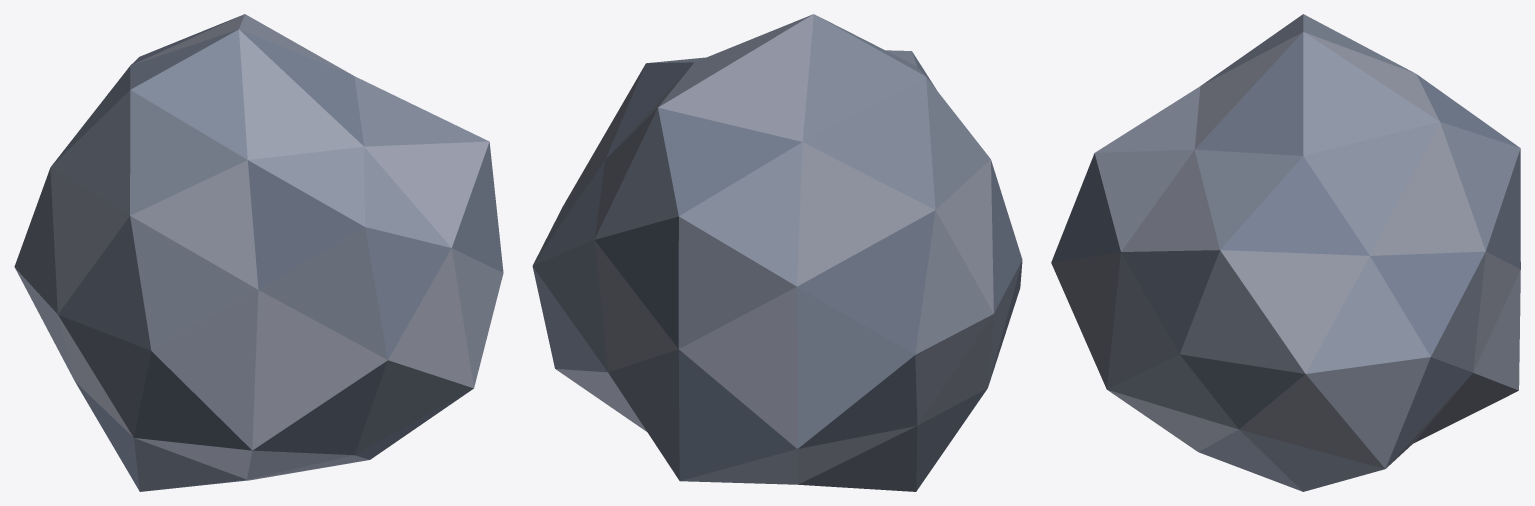
Rendered from asteroid_3.gltf.
3 renders of one model, left to right at view 1: azimuth 30°, elevation 25°; view 2: azimuth 150°, elevation 25°; view 3: azimuth 270°, elevation 25°, orthographic. The views are drawn at different scales.
Parts seen in each view (by area): view 1: asteroid_3; view 2: asteroid_3; view 3: asteroid_3.
Boxes of the visible parts, x1,y1,x2,y2 form: asteroid_3: (14, 14, 503, 491); asteroid_3: (532, 14, 1022, 491); asteroid_3: (1051, 14, 1520, 491).
Size of the model in its own units: 2 by 2.07 by 2.05.
